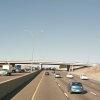Car: (66, 78, 86, 96)
